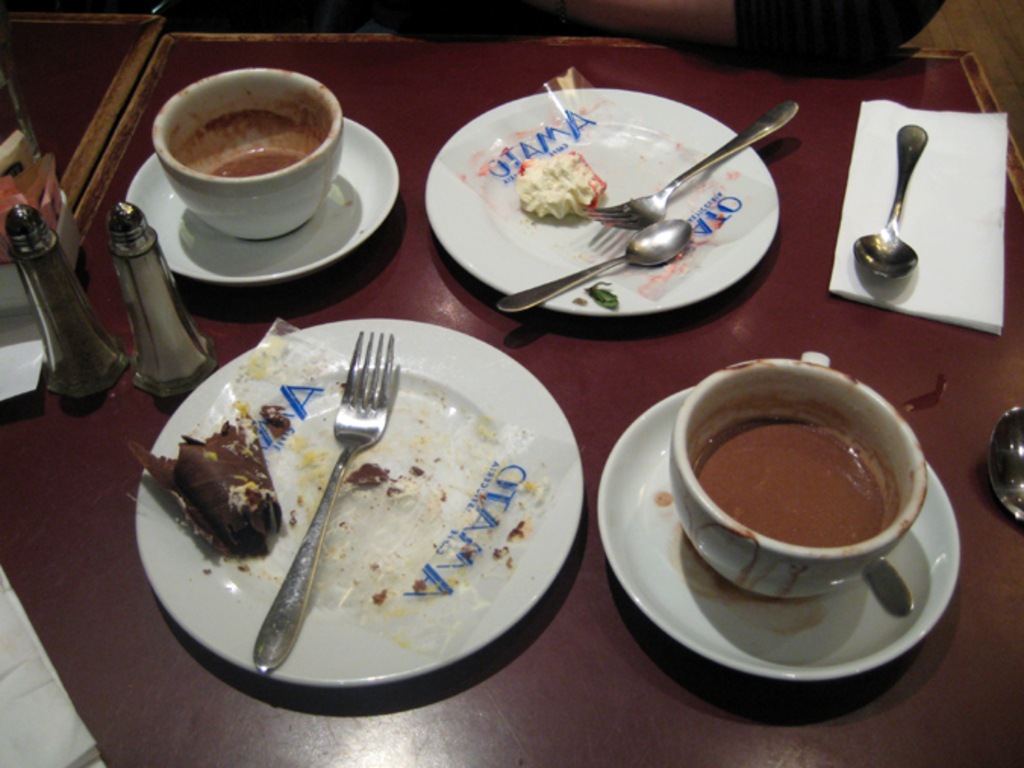plate: (131, 316, 581, 683)
